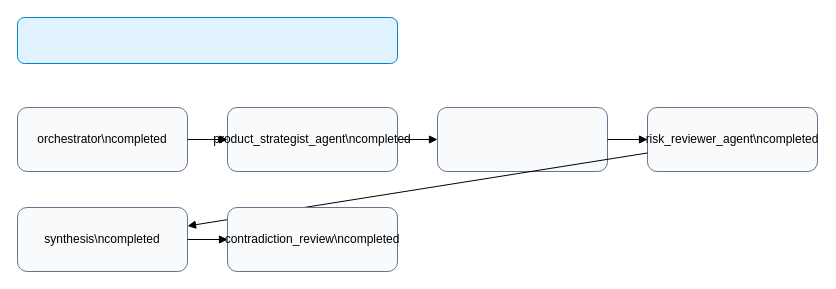
Image size: 836x289. Some labels were removed from this diagram. The shapes that lost their labels are listed below. From the top down, each one's centre as x and y in pixels, then its label:
At (207,40): "V4.4 Deliberation Status".
At (522,139): "architecture_agent\ncompleted".
